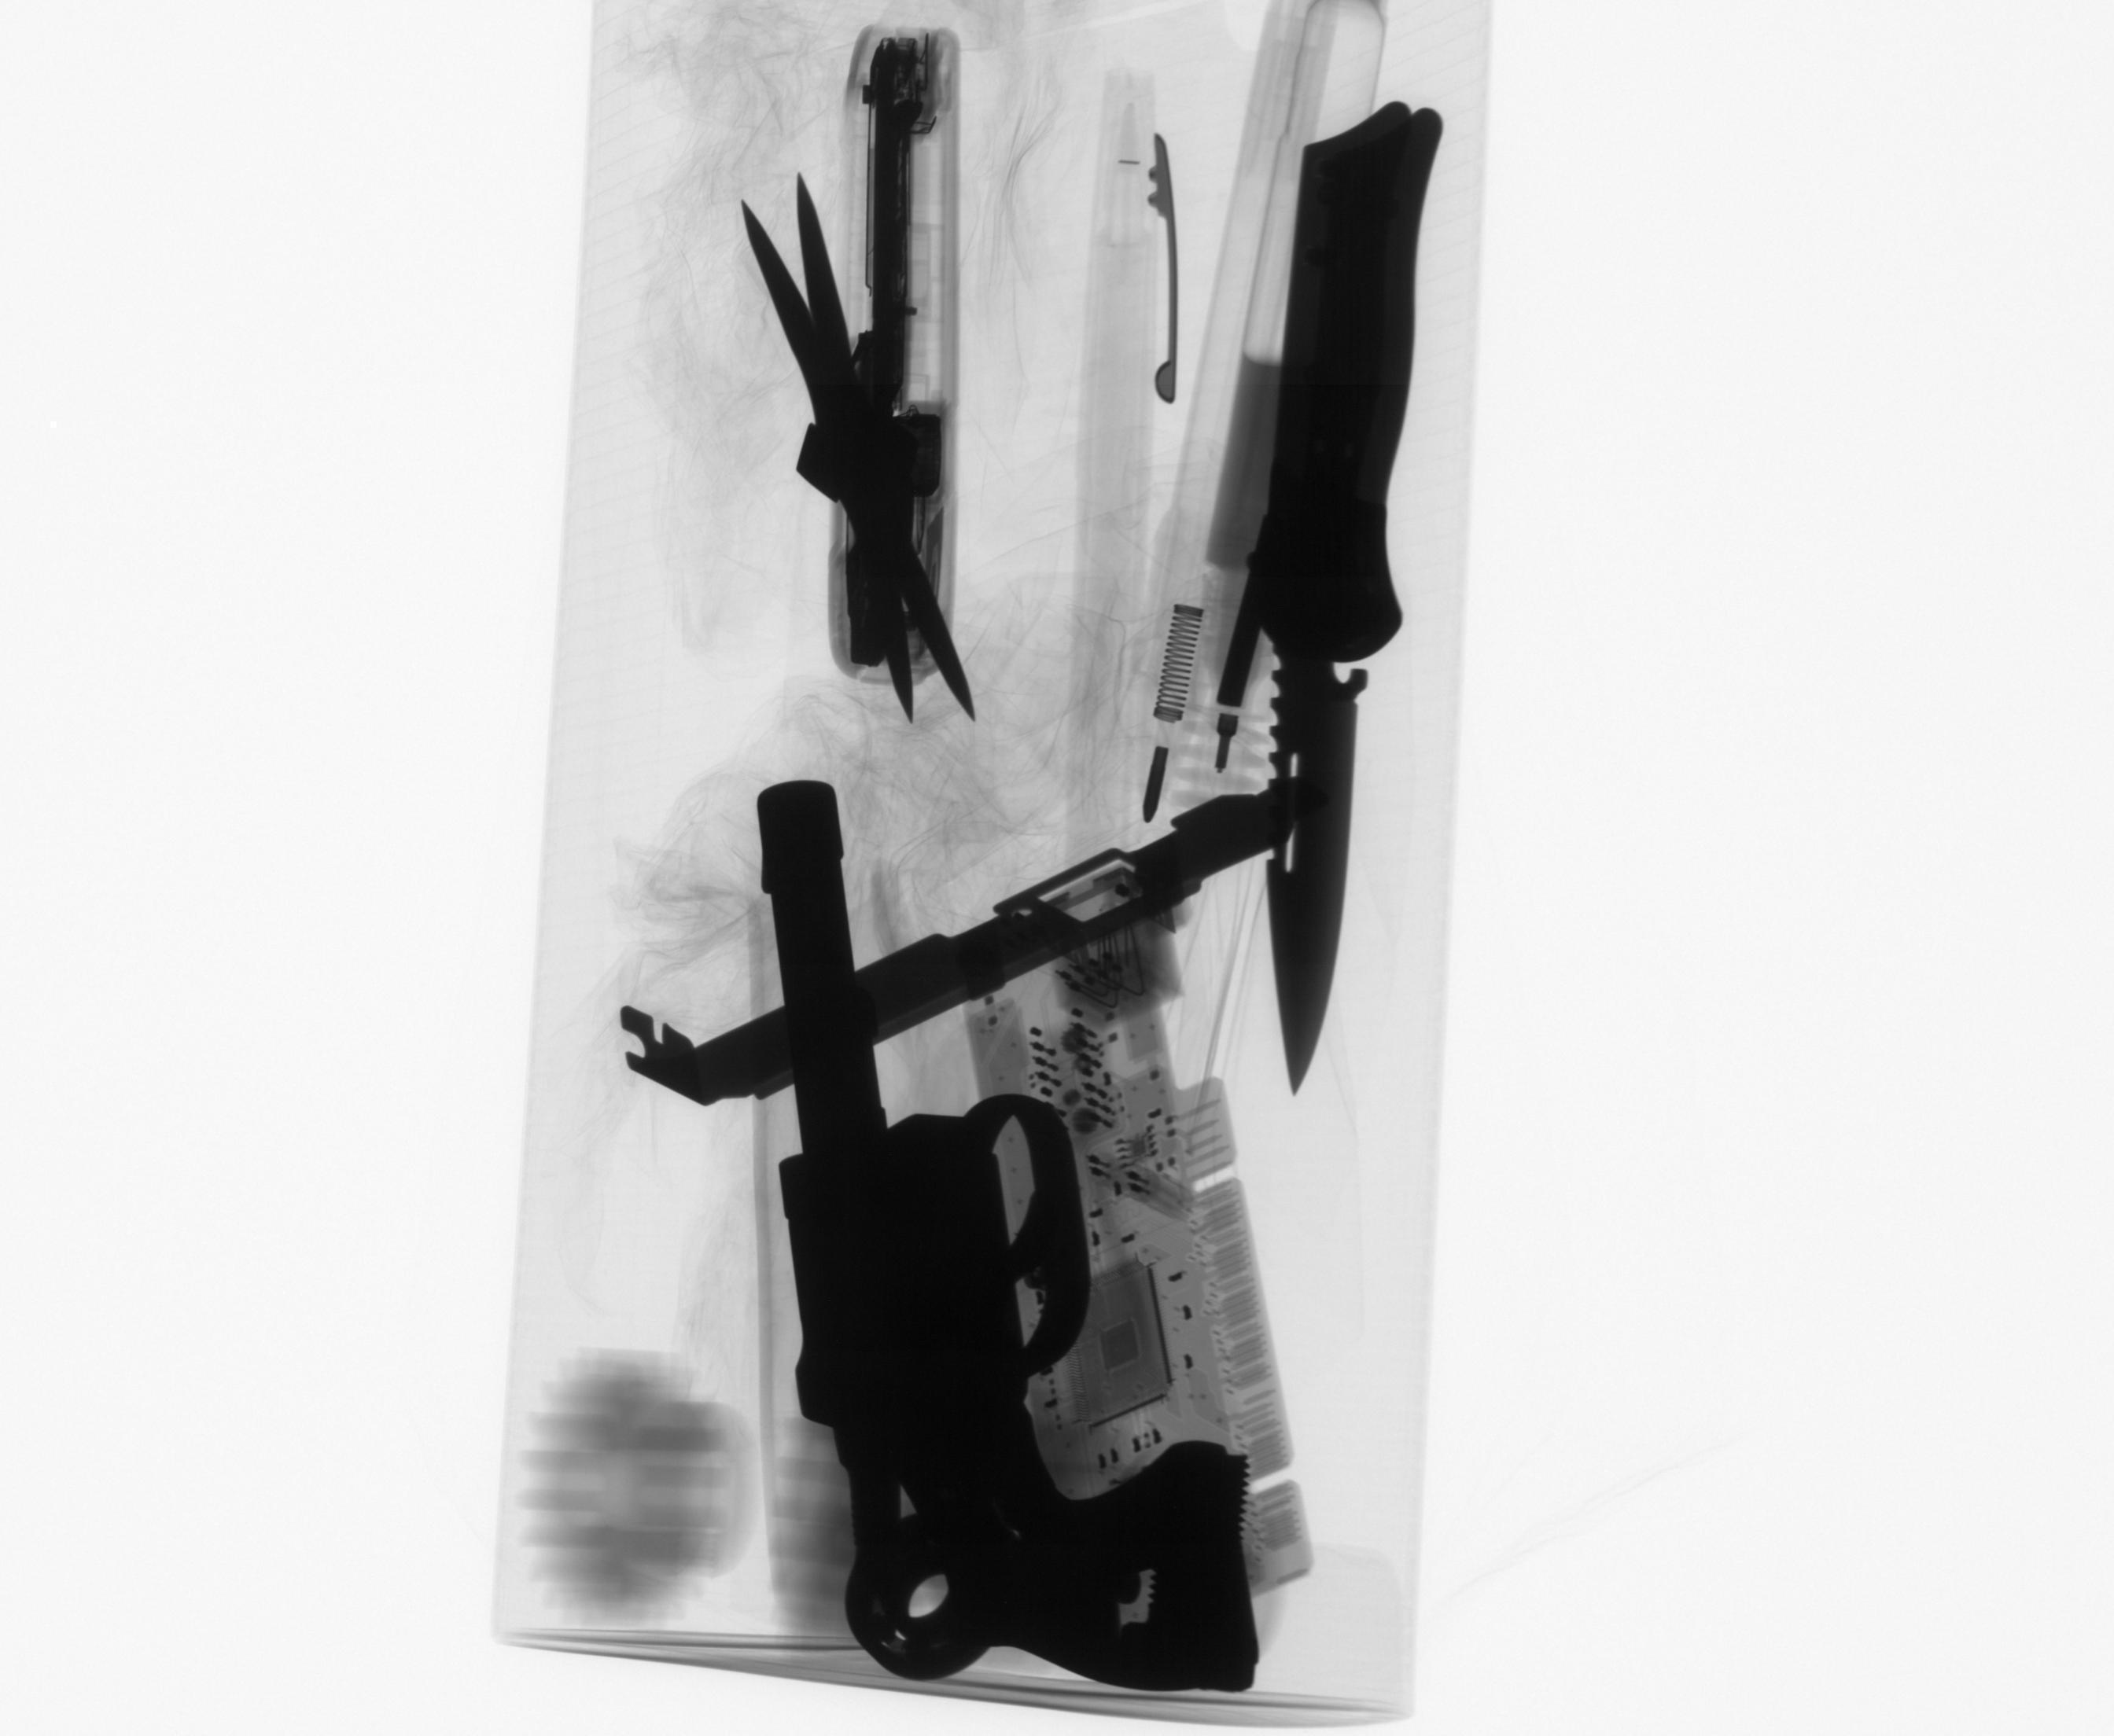Handgun: (743, 771, 1272, 1710)
Knife: (1245, 94, 1451, 1105)
Shuriken: (732, 165, 996, 734)
